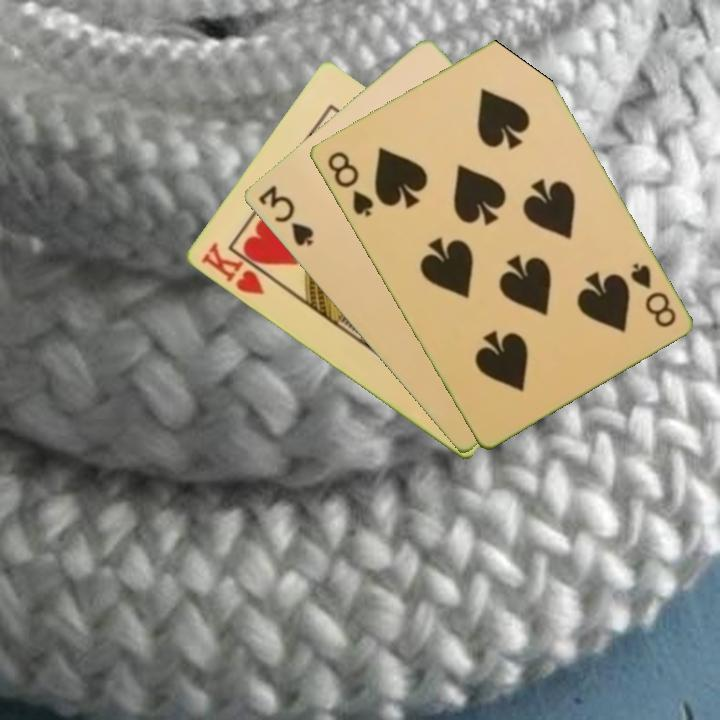3s: (254, 181, 317, 250)
8s: (323, 147, 376, 220), (626, 259, 679, 331)
Kh: (197, 238, 278, 298)
